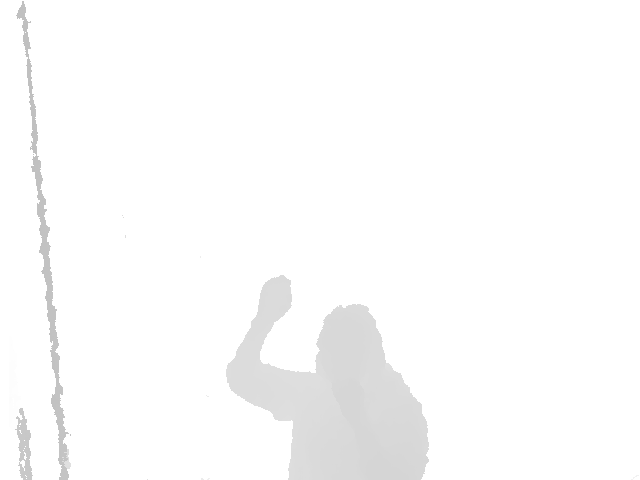hand: (257, 274, 293, 328)
head: (315, 303, 385, 374)
person: (224, 274, 429, 480)
